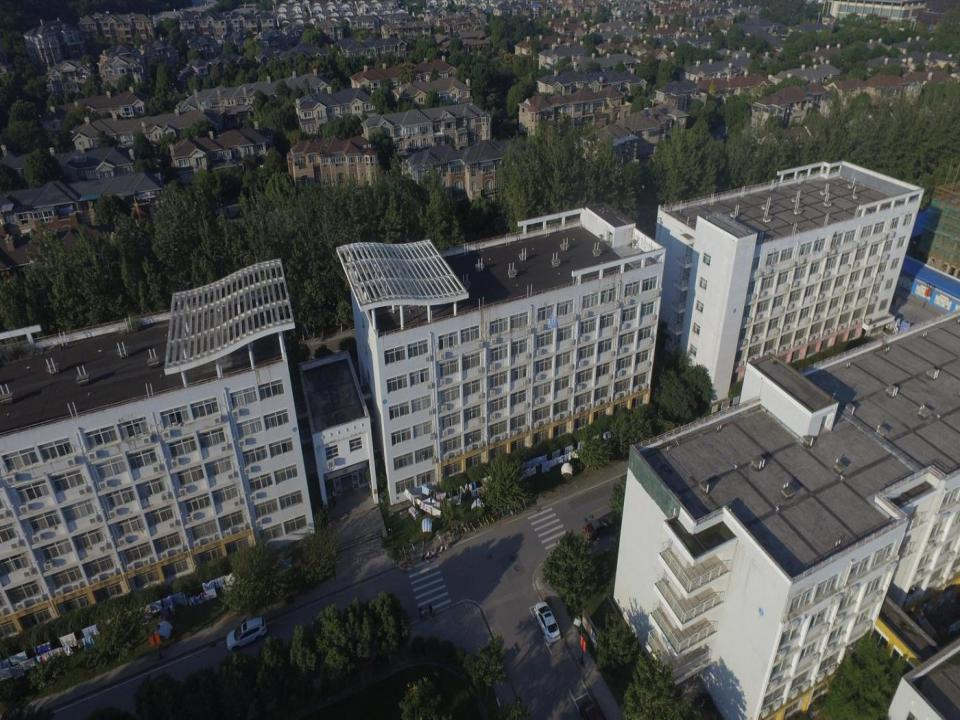car: (225, 615, 266, 652), (533, 598, 561, 643)
